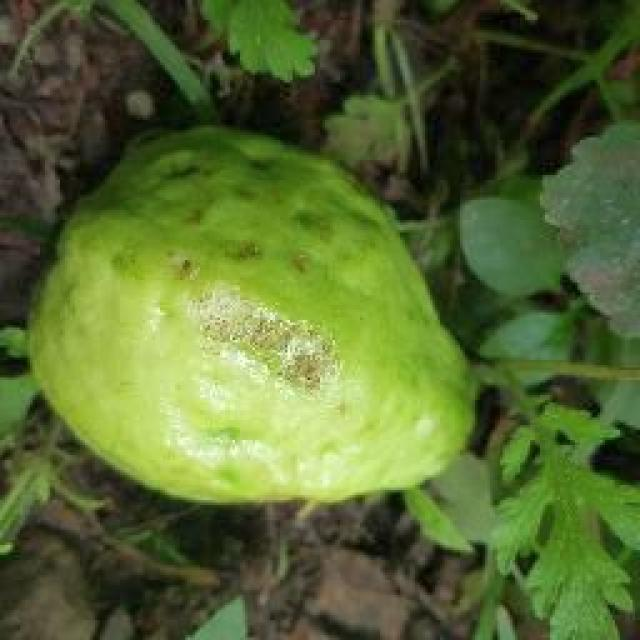Good_Guava: (25, 125, 480, 508)
